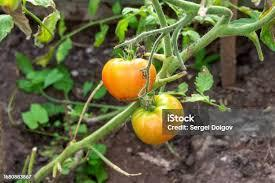Masak: (129, 95, 189, 149), (101, 44, 158, 100)
